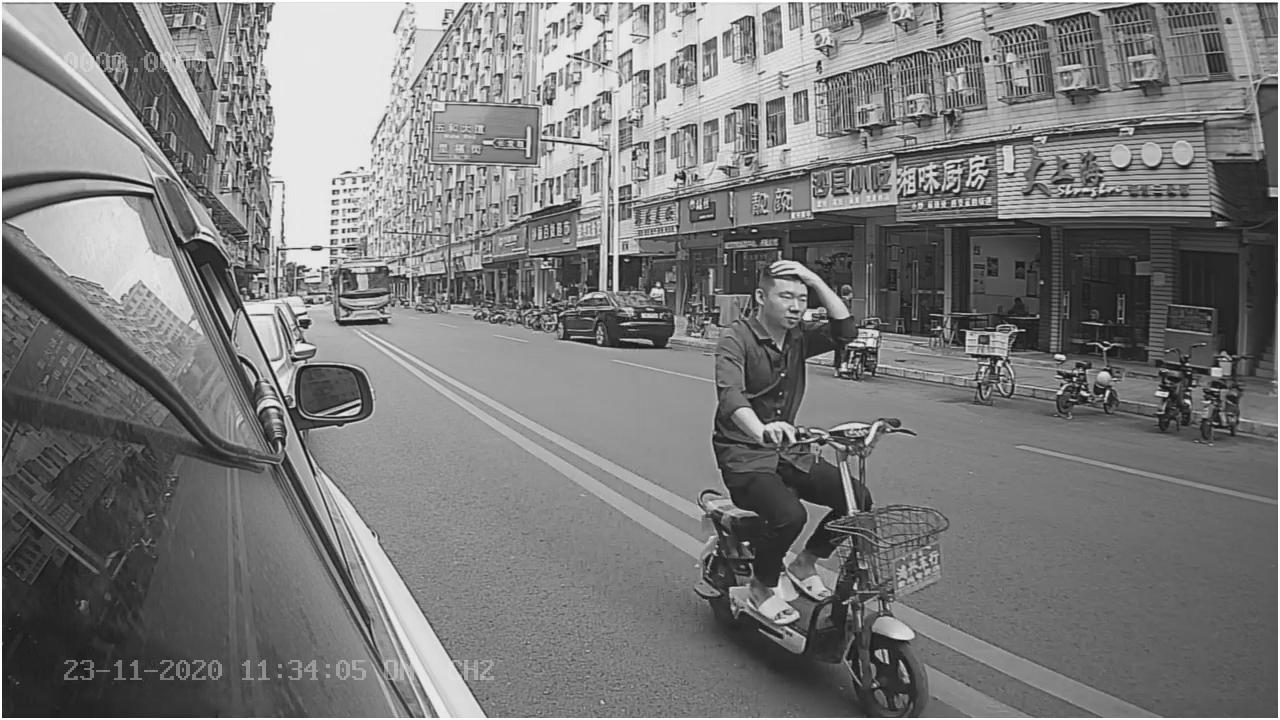person: (703, 254, 853, 443)
